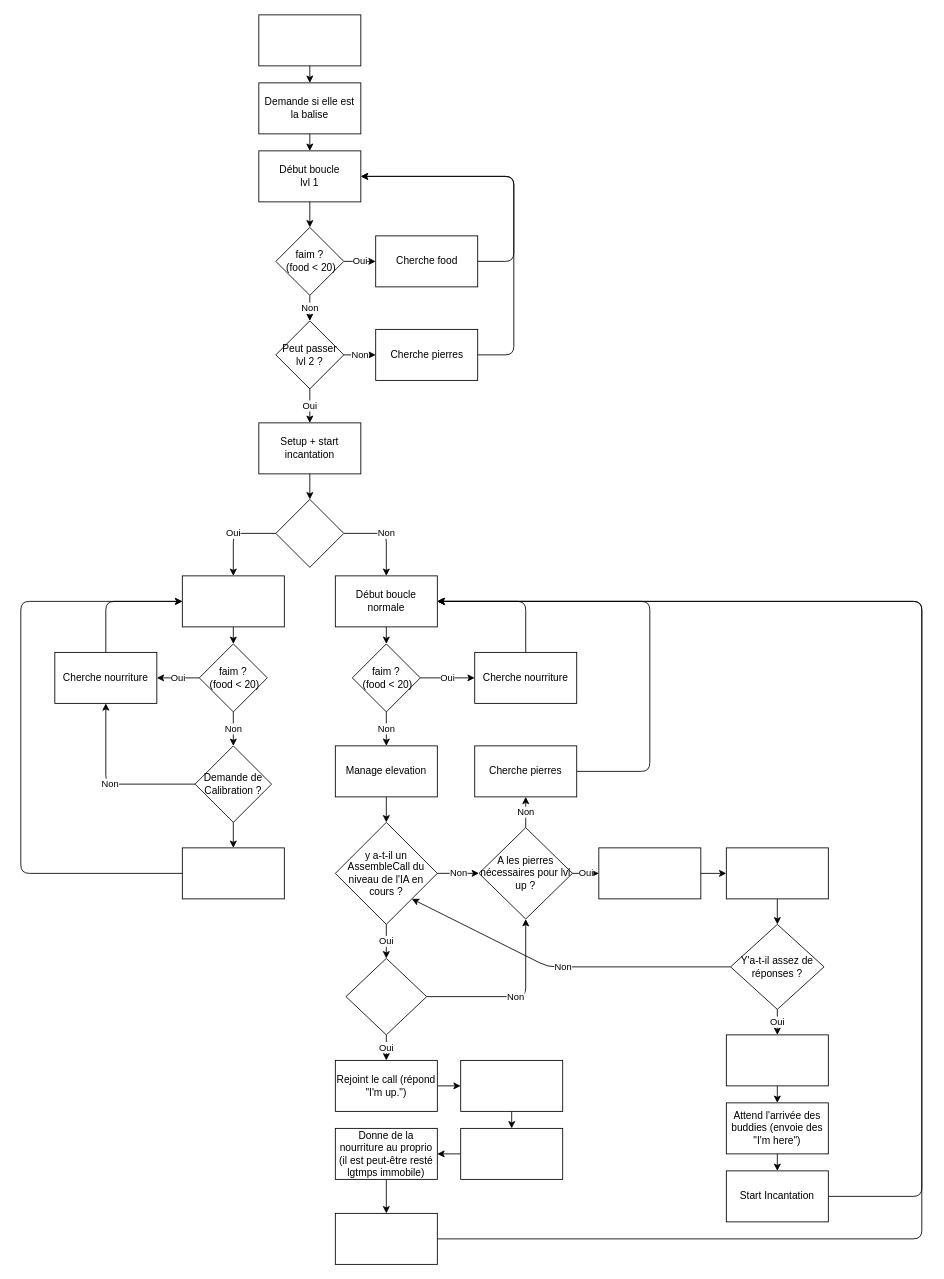
Some shapes in this 944 by 1279 pixel diagram are drawn without their labels. Here are the shapes that lost their labels. From the top down, the box of each, then its label:
(258, 14, 361, 66): IA init
(275, 499, 344, 567): IA est la balise ?
(181, 575, 284, 627): Début boucle balise
(181, 847, 284, 899): Donne l'état des communications
(598, 847, 701, 899): Crée un AssembleCall
(725, 847, 828, 899): Pond un oeuf
(345, 958, 427, 1035): Il reste de la place pour l'IA ?
(725, 1034, 828, 1086): Envoie un go
(460, 1060, 563, 1111): Attend le go dans la discussion (farm nourriture en attendant)
(460, 1128, 563, 1179): Rejoins le proprio du call (goDirection)
(334, 1213, 437, 1264): Attendre "Elevation underway".
